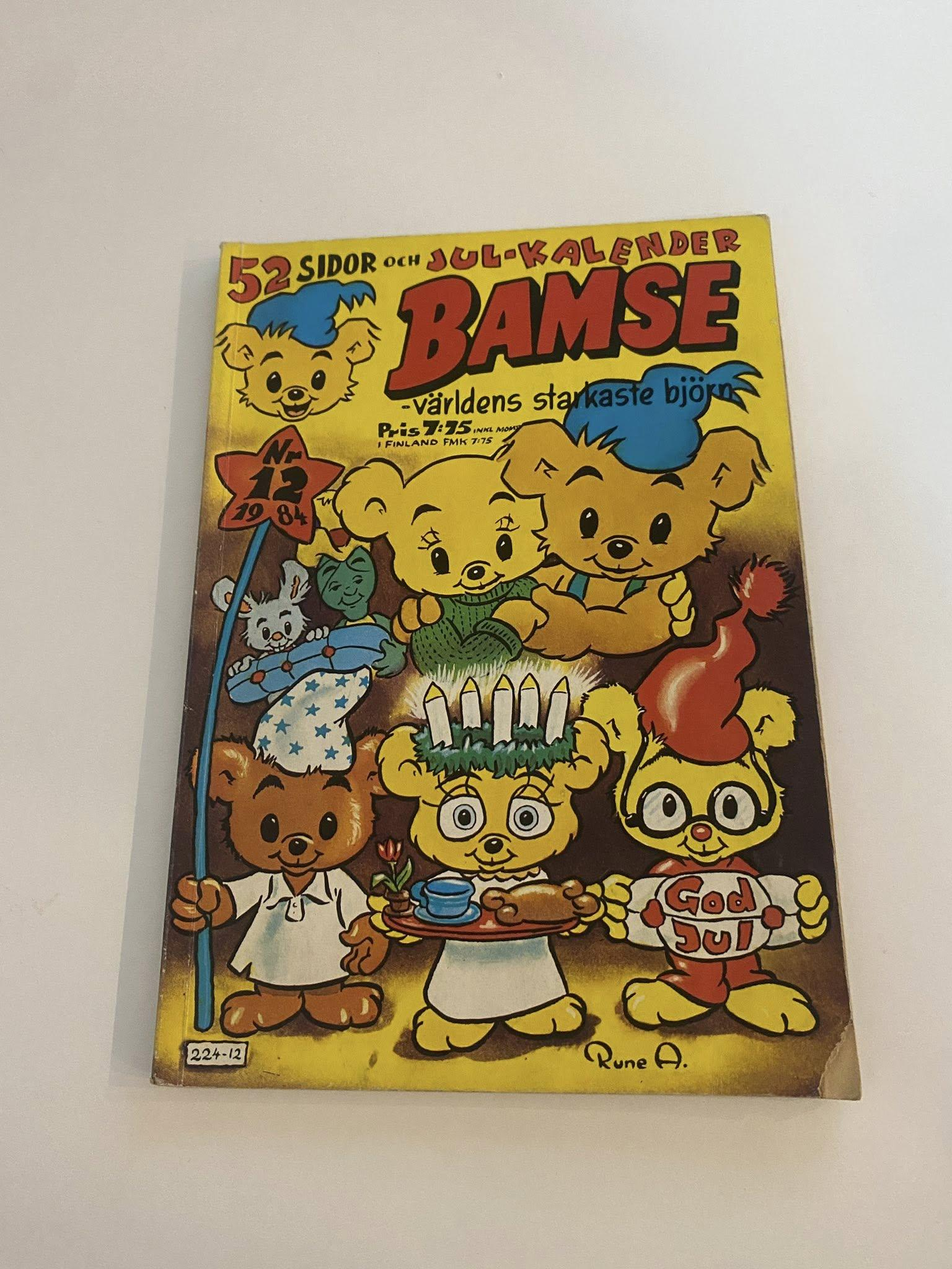comic: (154, 207, 874, 1097)
